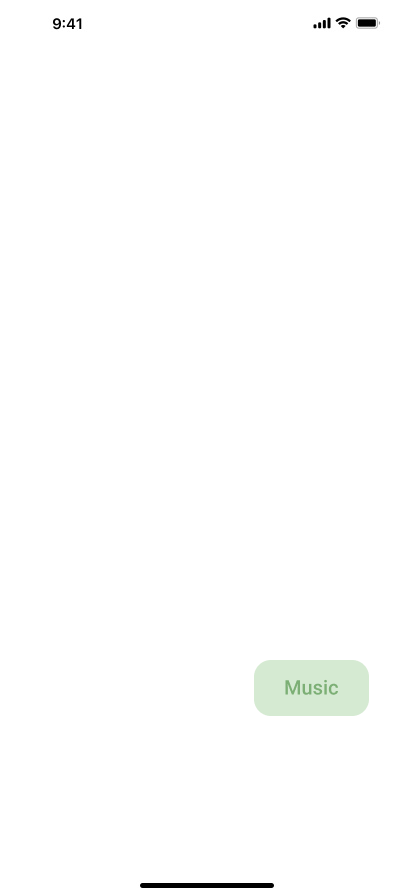Buttons: (254, 660, 377, 716)
Home Indicator: (0, 862, 414, 896)
Status Bar: (0, 0, 414, 44)
